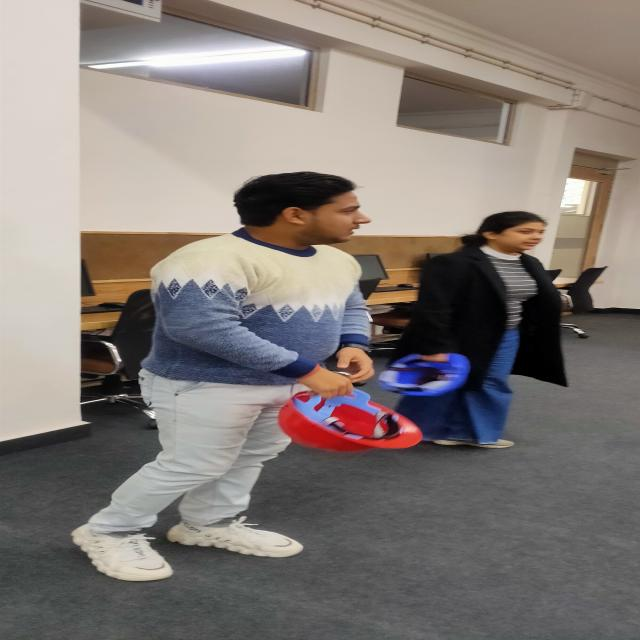unsafe: (70, 172, 382, 584), (408, 207, 567, 457)
